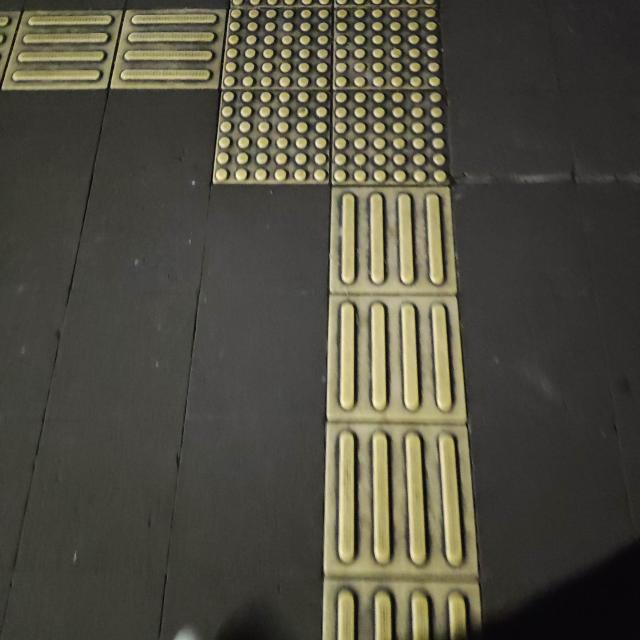kiri: (61, 4, 500, 259)
